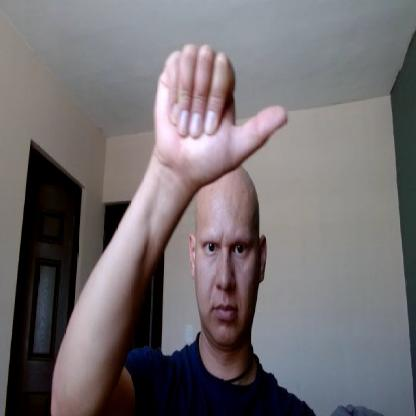A: (155, 41, 288, 187)
